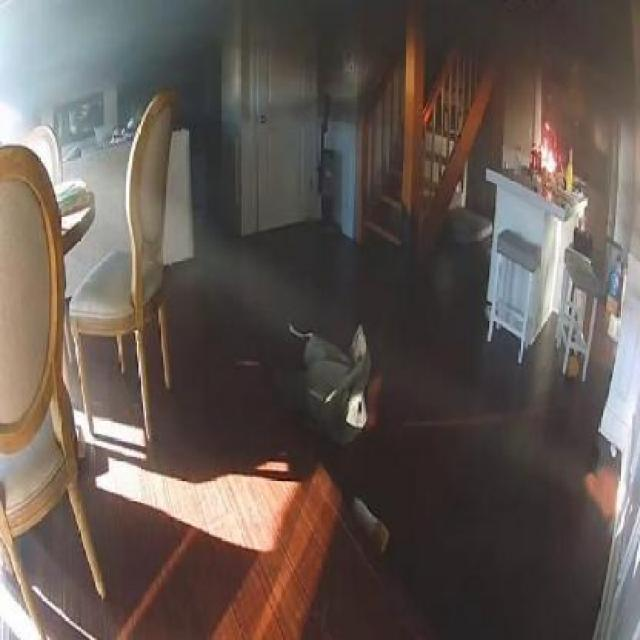fire: (538, 112, 566, 182)
